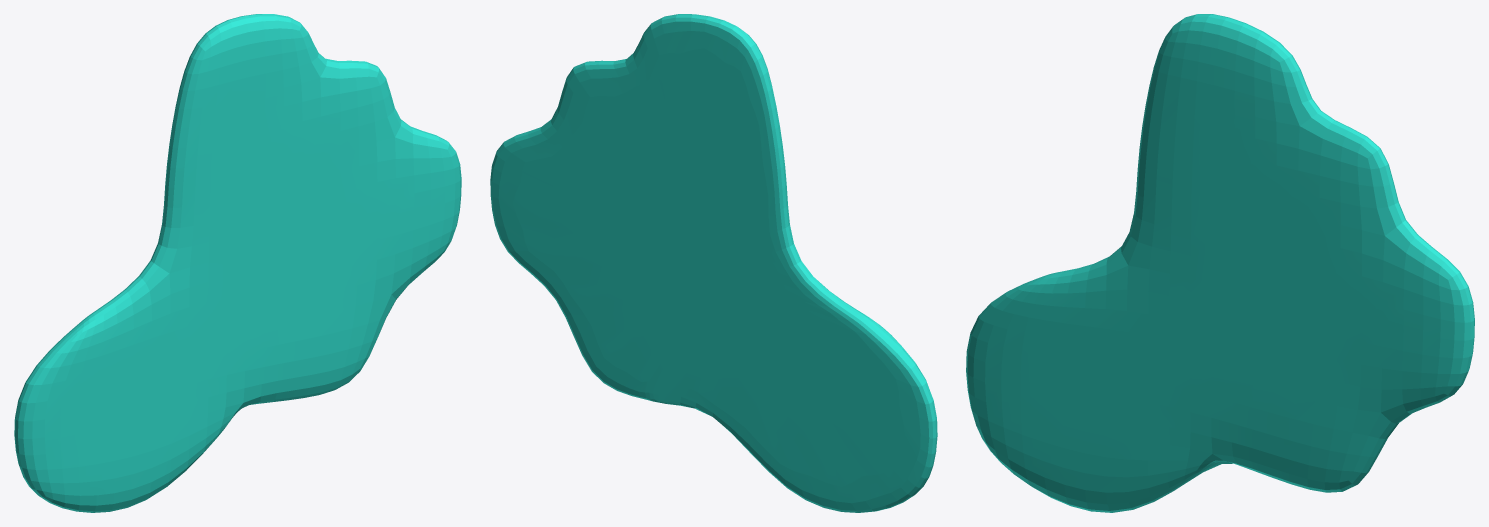
The model's file is puddle.fbx.
3 views of the same model, side by side, from view 1: azimuth 30°, elevation 25°; view 2: azimuth 150°, elevation 25°; view 3: azimuth 330°, elevation 25° (orthographic). The views are drawn at different scales.
Parts seen in each view (by area): view 1: Plane; view 2: Plane; view 3: Plane.
Part boxes in pixels (x1,y1,x2,y2): Plane: (14, 14, 461, 512); Plane: (490, 14, 937, 512); Plane: (966, 14, 1474, 512).
Bounding box in the file's own units: 197 × 196 × 9.13.
